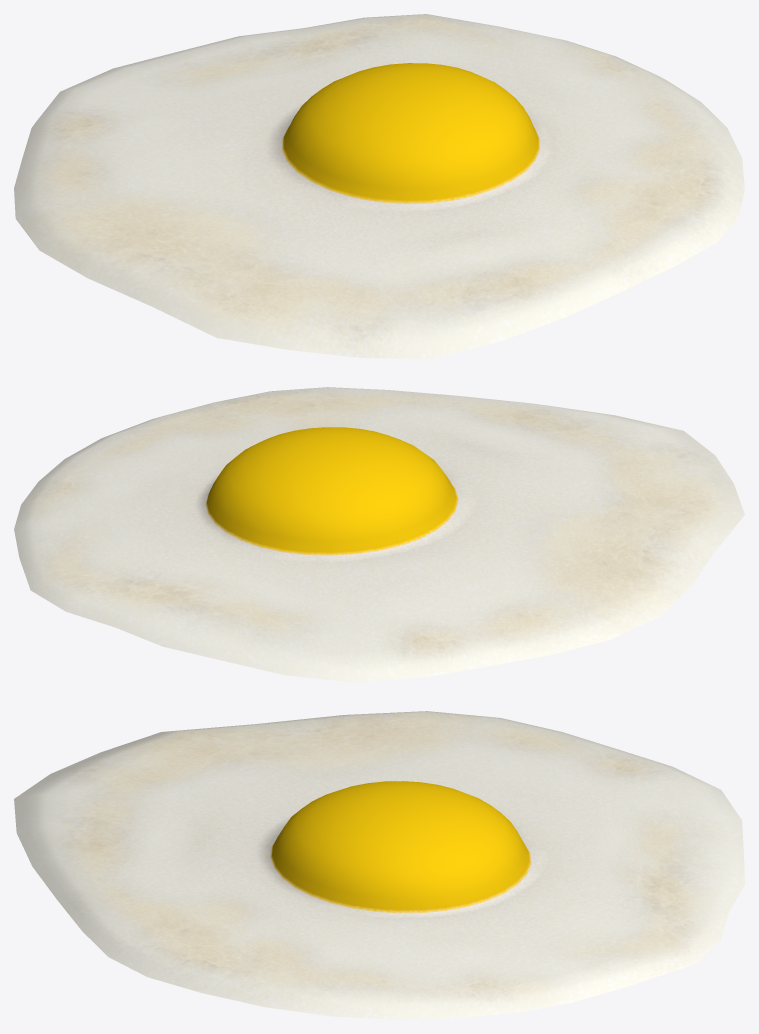
File: Egg_Cracked_22.obj
3 views of the same model, one above another, from view 1: azimuth 30°, elevation 25°; view 2: azimuth 150°, elevation 25°; view 3: azimuth 270°, elevation 25° (orthographic). The views are drawn at different scales.
Parts seen in each view (by area): view 1: fried_egg_21; view 2: fried_egg_21; view 3: fried_egg_21.
Boxes of the visible parts, box(x1,y1,x2,y2) form: fried_egg_21: box(14, 14, 744, 358); fried_egg_21: box(14, 387, 744, 682); fried_egg_21: box(14, 711, 744, 1019).
Size of the model in its own units: 0.1096 by 0.014 by 0.1097.
